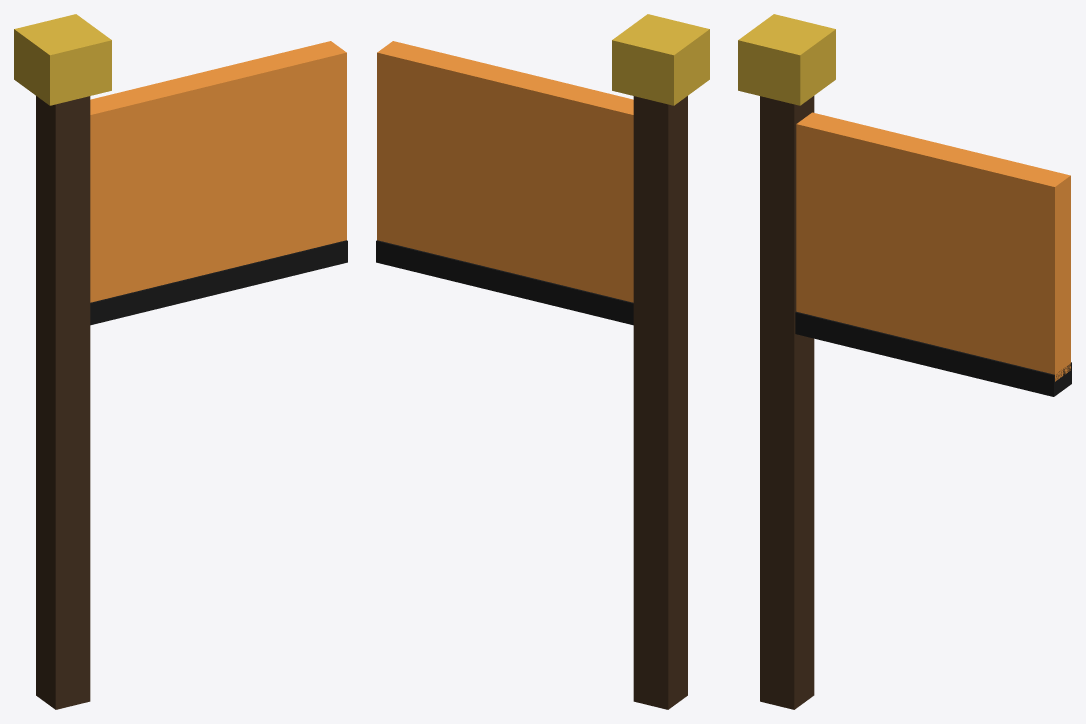
Rendered from flag_5.glb.
3 renders of one model, left to right at view 1: azimuth 30°, elevation 25°; view 2: azimuth 150°, elevation 25°; view 3: azimuth 330°, elevation 25°, orthographic.
Size of the model in its own units: 0.89 by 1.84 by 0.18.
1 material, 1 textured.
